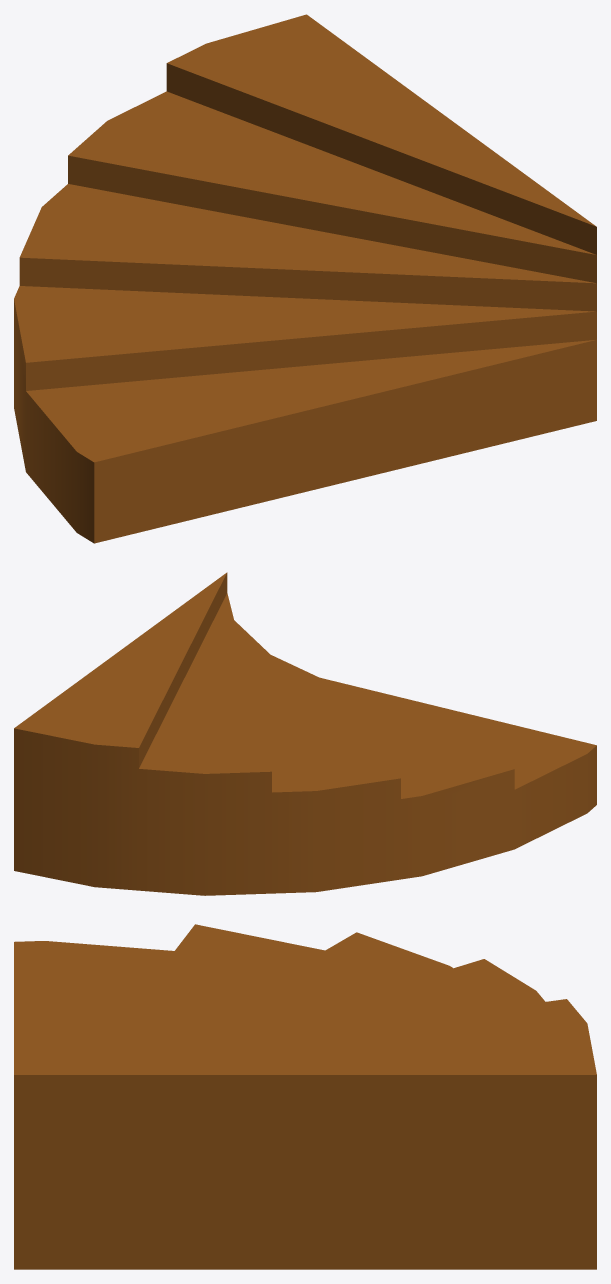
File: Dungeon_Tile_Stairs_Spiral_Part_Wooden_Large_01.fbx
3 views of the same model, one above another, from view 1: azimuth 30°, elevation 25°; view 2: azimuth 150°, elevation 25°; view 3: azimuth 270°, elevation 25° (orthographic). The views are drawn at different scales.
Parts seen in each view (by area): view 1: Dungeon_Tile_Stairs_Spiral_Part_Wooden_Large_01; view 2: Dungeon_Tile_Stairs_Spiral_Part_Wooden_Large_01; view 3: Dungeon_Tile_Stairs_Spiral_Part_Wooden_Large_01.
Part boxes in pixels (x1,y1,x2,y2): Dungeon_Tile_Stairs_Spiral_Part_Wooden_Large_01: (14, 14, 596, 543); Dungeon_Tile_Stairs_Spiral_Part_Wooden_Large_01: (14, 572, 596, 895); Dungeon_Tile_Stairs_Spiral_Part_Wooden_Large_01: (14, 924, 596, 1269).
Size of the model in its own units: 81.91 by 30.07 by 81.57.
